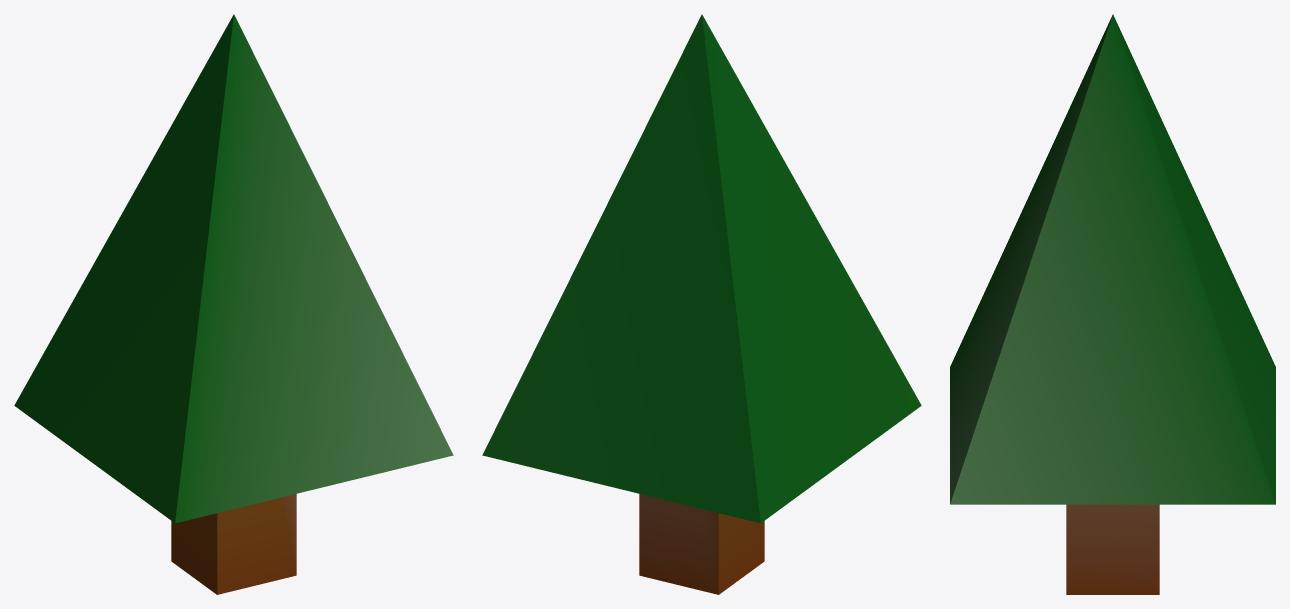
File: tree.fbx
The picture shows the model from 3 angles, left to right: view 1: azimuth 30°, elevation 25°; view 2: azimuth 150°, elevation 25°; view 3: azimuth 270°, elevation 25°; orthographic projection.
Parts seen in each view (by area): view 1: Cube.001; view 2: Cube.001; view 3: Cube.001.
Part boxes in pixels (x1,y1,x2,y2): Cube.001: (14,14,453,594); Cube.001: (482,14,921,594); Cube.001: (950,14,1275,594).
Size of the model in its own units: 70 by 133 by 70.
